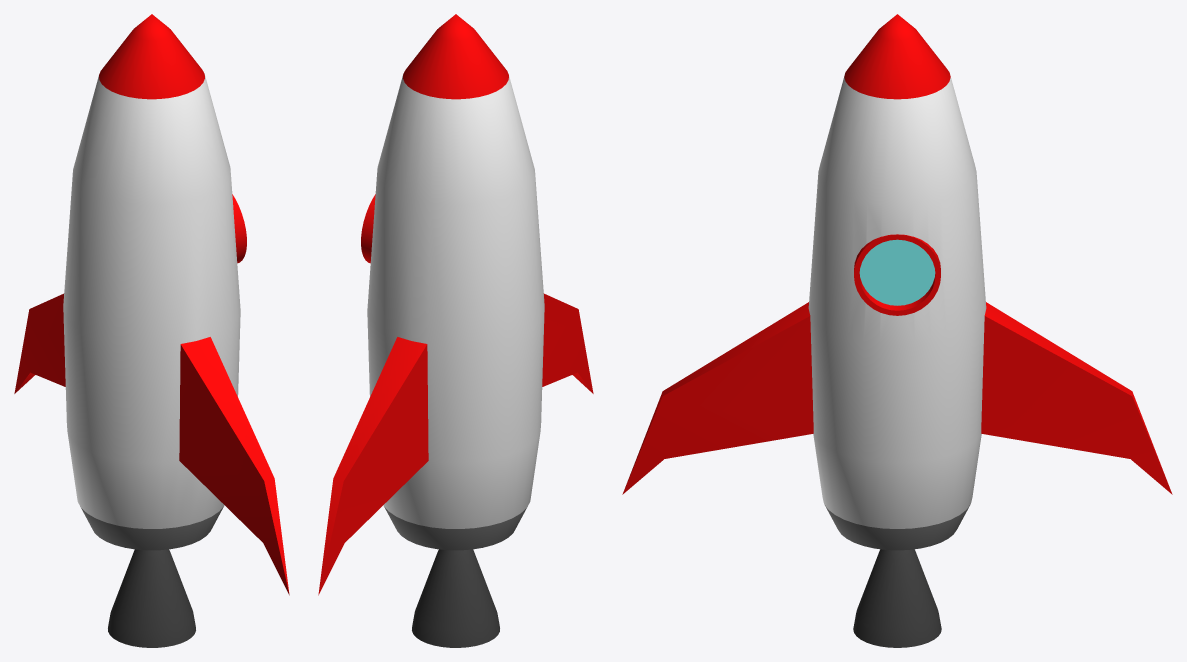
File: rocket.glb
3 renders of one model, left to right at view 1: azimuth 30°, elevation 25°; view 2: azimuth 150°, elevation 25°; view 3: azimuth 270°, elevation 25°, orthographic.
Visible parts, largest first — view 1: rocket; view 2: rocket; view 3: rocket.
Boxes of the visible parts, x1,y1,x2,y2 form: rocket: [14, 14, 289, 647]; rocket: [318, 14, 593, 647]; rocket: [622, 14, 1172, 647].
Bounding box in the file's own units: 2.93 × 11.2 × 9.08.
Materials: 1 (1 with a texture image).
